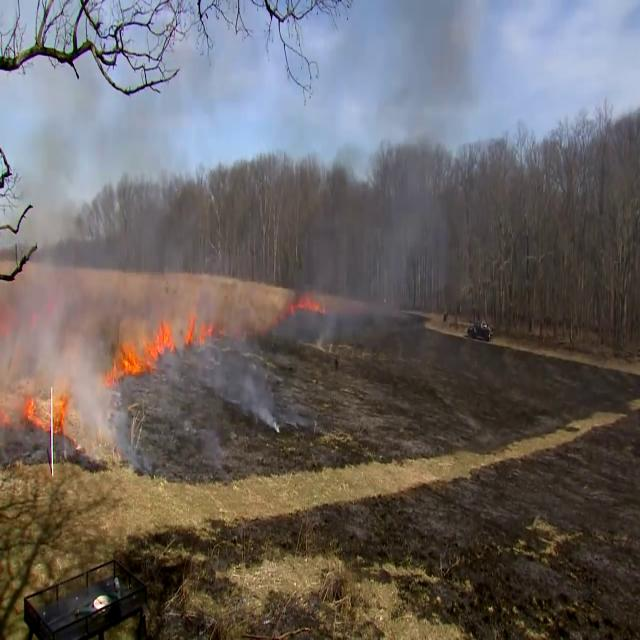smoke: (11, 299, 98, 387)
